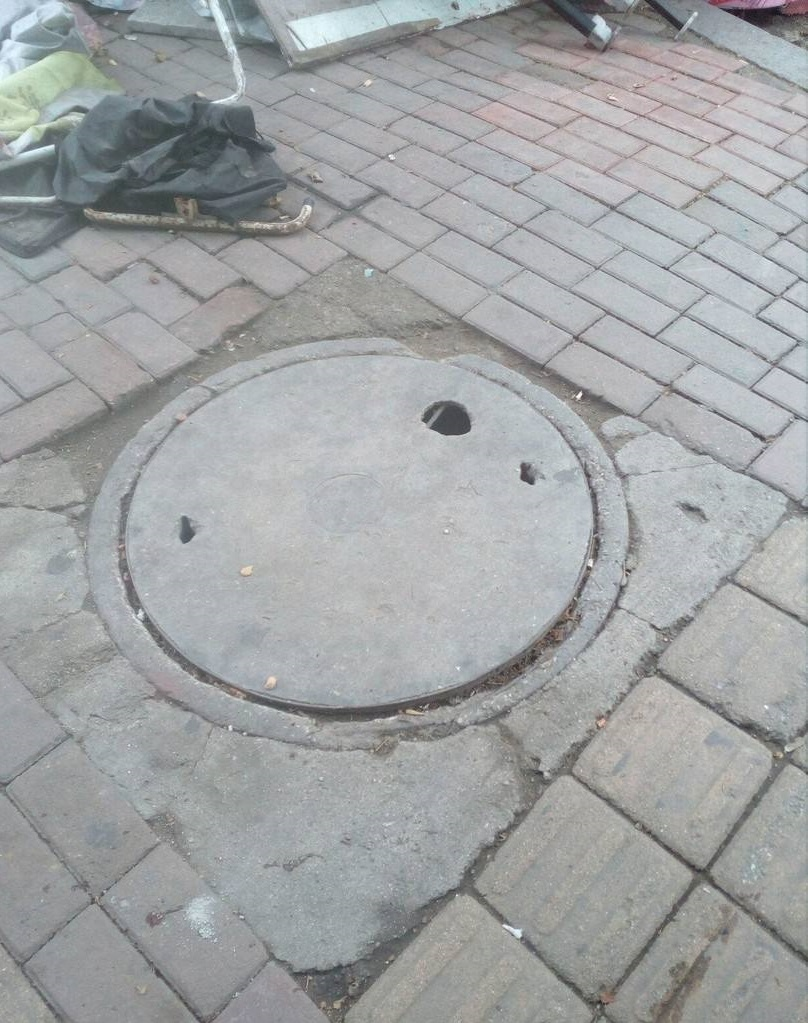broke: (80, 336, 633, 753)
